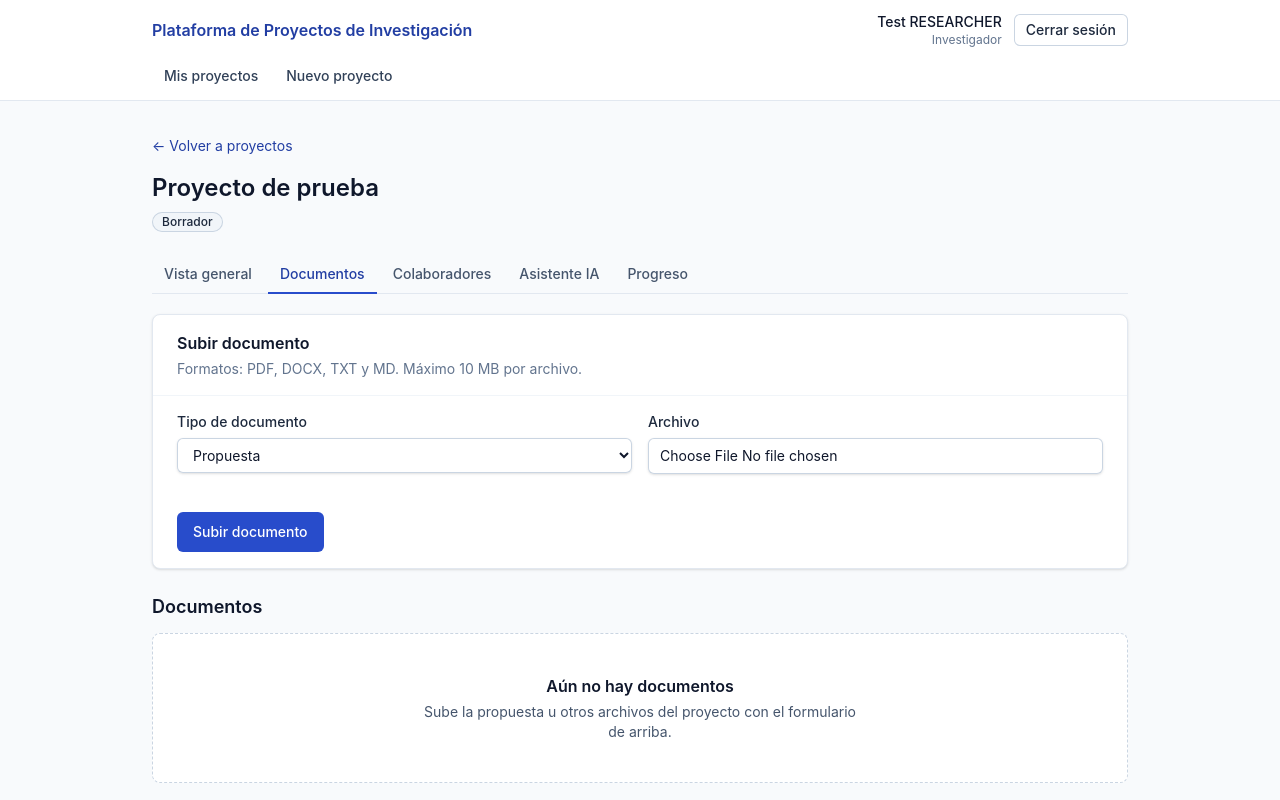
Test: Documents tab › asks for a file when none is selected
Expected: the text "Aún no hay documentos" is shown, [546,676,734,696]
Click the button "Subir documento": (250, 532) [177,512,324,552]
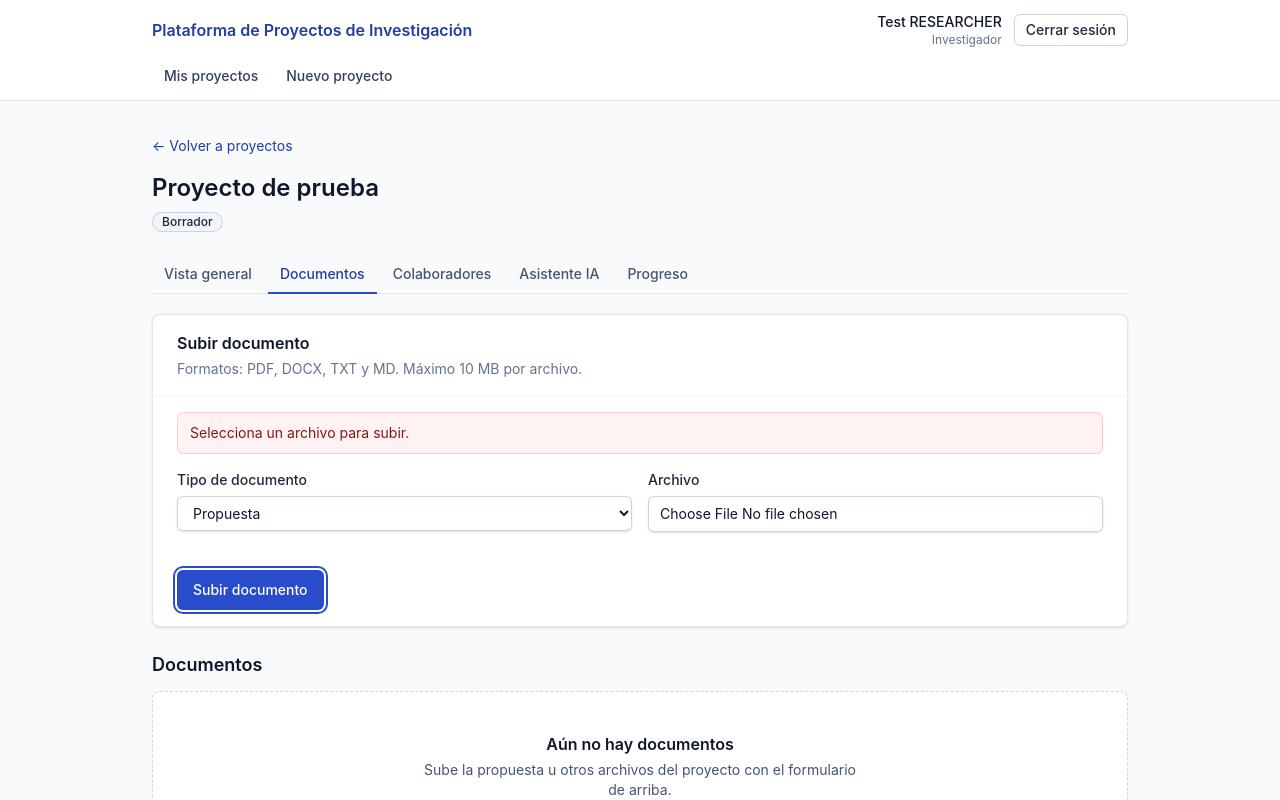
Expected: the message reads "Selecciona un archivo para subir.", [190,424,409,441]
